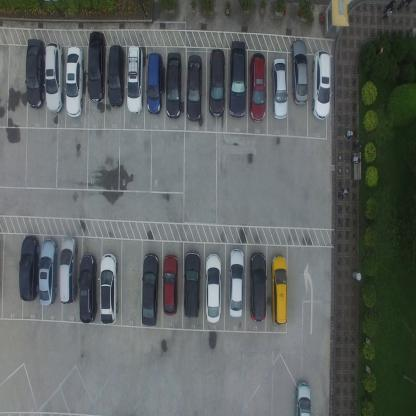car: (86, 31, 107, 104), (44, 42, 65, 114), (228, 39, 247, 118), (98, 252, 118, 327), (140, 252, 160, 326), (18, 235, 40, 302), (311, 50, 331, 121), (25, 38, 45, 109), (78, 252, 98, 323), (38, 237, 58, 308), (58, 235, 78, 305), (65, 46, 84, 118), (248, 252, 267, 323), (204, 252, 222, 323), (126, 44, 144, 114), (271, 252, 288, 326), (183, 250, 201, 319), (164, 51, 182, 119), (207, 48, 225, 116), (249, 51, 266, 122), (290, 39, 308, 105), (107, 43, 125, 108), (185, 53, 202, 121), (228, 247, 244, 319), (147, 52, 164, 114), (162, 254, 178, 317), (272, 56, 288, 118), (293, 380, 311, 415)
